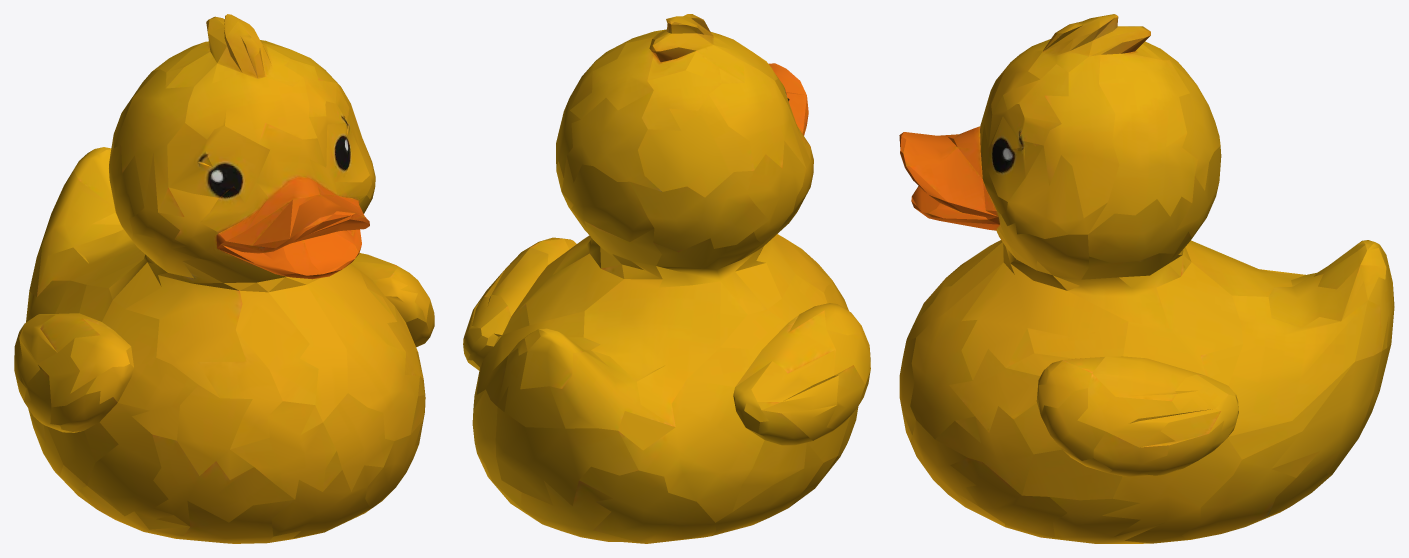
Rendered from duck.glb.
3 views of the same model, side by side, from view 1: azimuth 30°, elevation 25°; view 2: azimuth 150°, elevation 25°; view 3: azimuth 270°, elevation 25° (orthographic). The views are drawn at different scales.
Size of the model in its own units: 1.6 by 1.9 by 1.81.
1 material, 1 textured.
